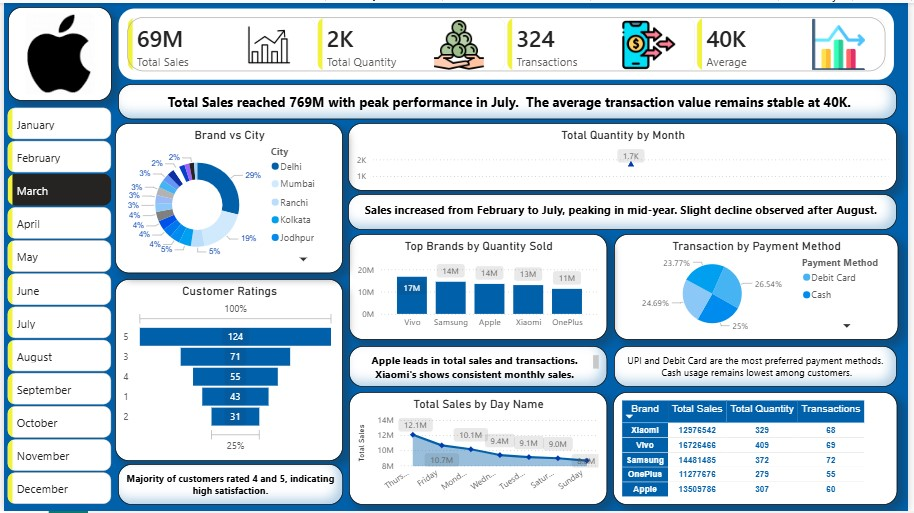

This screenshot's page, from the dashboard's own definition file:
{"tool":"powerbi","page":{"name":"Page 1","canvas":[1280,720],"ordinal":0},"visuals":[{"type":"shape","box":[5.7,5.7,147.4,133.2],"z":0},{"type":"image","box":[113.4,154.5,147.4,126.1],"z":1000},{"type":"advancedSlicerVisual","fields":{"Values":["Sales Data.Date.Variation.Date Hierarchy.Month"]},"box":[0,143.1,157.3,575.4],"z":2000},{"type":"cardVisual","fields":{"Data":["Sales_Data.Total Sales","Sales_Data.Total Quantity","Sales_Data.Transactions","Sales_Data.Average"]},"box":[157.3,2.8,1109.8,112],"z":3000},{"type":"lineChart","title":"Total Quantity by Month","fields":{"Y":["Sum(Sales_Data.Units Sold)"],"Category":["Sales_Data.Date.Variation.Date Hierarchy.Month","Sales_Data.Date.Variation.Date Hierarchy.Day"]},"box":[487.6,170.1,778.1,96.4],"z":4000},{"type":"pieChart","title":"Transaction by Payment Method","fields":{"Category":["Sales_Data.Payment Method"],"Y":["Sales_Data.Transactions"]},"box":[864.6,327.4,402.5,150.2],"z":5000},{"type":"clusteredColumnChart","title":"Top Brands by Quantity Sold","fields":{"Y":["Sales_Data.Total Sales"],"Category":["Sales_Data.Brand"]},"box":[489,327.4,365.7,150.2],"z":6000},{"type":"funnel","title":"Customer Ratings","fields":{"Category":["Sales_Data.Customer Ratings"],"Y":["CountNonNull(Sales_Data.Customer Ratings)"]},"box":[157.3,391.2,323.1,258],"z":7000},{"type":"donutChart","title":"Brand vs City","fields":{"Category":["Sales_Data.City"],"Y":["CountNonNull(Sales_Data.Brand)"]},"box":[157.3,170.1,323.1,212.6],"z":8000},{"type":"areaChart","title":"Total Sales by Day Name","fields":{"Category":["Sales_Data.Day Name"],"Y":["Sales_Data.Total Sales"]},"box":[489,551.3,365.7,160.2],"z":9000},{"type":"tableEx","title":"Total Sales by Day Name","fields":{"Values":["Sales_Data.Brand","Sales_Data.Total Sales","Sales_Data.Total Quantity","Sales_Data.Transactions"]},"box":[863.1,551.3,402.5,160.2],"z":10000},{"type":"textbox","box":[161.6,114.8,1104.1,49.6],"z":11000},{"type":"textbox","box":[489,486.1,365.7,58.1],"z":12000},{"type":"textbox","box":[487.6,270.7,778.1,51],"z":13000},{"type":"textbox","box":[864.6,486.1,401.1,58.1],"z":14000},{"type":"textbox","box":[161.6,653.4,318.9,58.1],"z":15000},{"type":"image","box":[18.4,14.2,121.9,114.8],"z":15006}]}

Visuals, with their boxes in screenshot pixels (x1, y1, x2, y2), scaled from the page's 1280x720 canvas onto the 914x513 screenshot:
shape: <box>4,4,109,99</box>
image: <box>81,110,186,200</box>
advancedSlicerVisual - Sales Data.Date.Variation.Date Hierarchy.Month: <box>0,102,112,512</box>
cardVisual - Sales_Data.Total Sales x Sales_Data.Total Quantity: <box>112,2,905,82</box>
"Total Quantity by Month" lineChart: <box>348,121,904,190</box>
"Transaction by Payment Method" pieChart: <box>617,233,905,340</box>
"Top Brands by Quantity Sold" clusteredColumnChart: <box>349,233,610,340</box>
"Customer Ratings" funnel: <box>112,279,343,463</box>
"Brand vs City" donutChart: <box>112,121,343,273</box>
"Total Sales by Day Name" areaChart: <box>349,393,610,507</box>
"Total Sales by Day Name" tableEx: <box>616,393,904,507</box>
textbox: <box>115,82,904,117</box>
textbox: <box>349,346,610,388</box>
textbox: <box>348,193,904,229</box>
textbox: <box>617,346,904,388</box>
textbox: <box>115,466,343,507</box>
image: <box>13,10,100,92</box>
